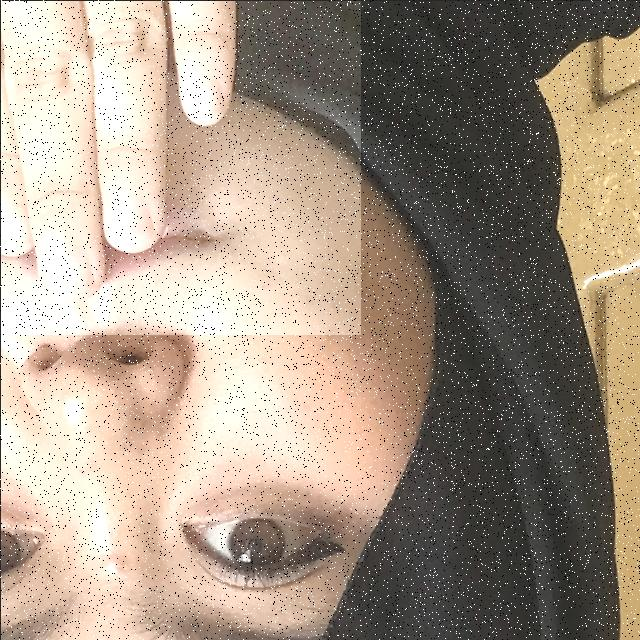ganteng: (0, 0, 360, 334)
